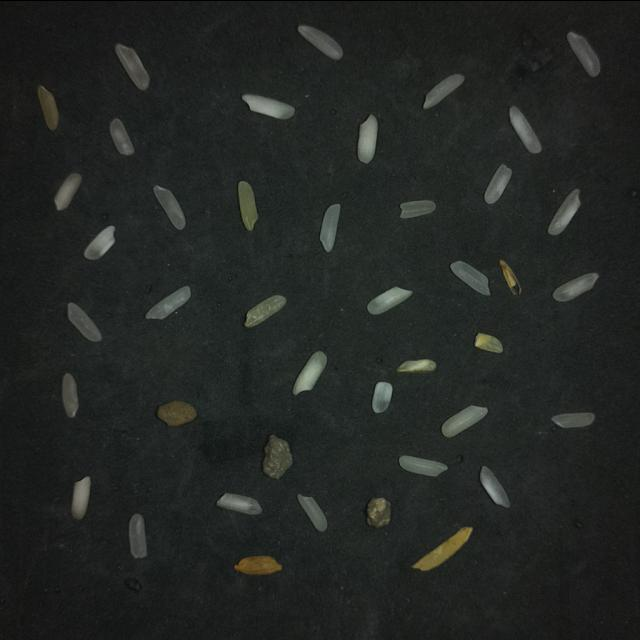broken: (450, 261, 489, 295), (483, 165, 511, 204), (296, 495, 326, 531), (53, 173, 81, 210), (216, 493, 261, 514), (109, 118, 134, 155), (399, 200, 435, 219)
chalky: (292, 351, 326, 395), (241, 94, 294, 119), (366, 287, 411, 314), (83, 226, 114, 260), (356, 115, 377, 163), (70, 476, 90, 519), (371, 382, 392, 413)
damaged: (396, 360, 435, 373)
discolored: (243, 295, 285, 327), (37, 86, 58, 130), (474, 333, 502, 353)
foreign: (262, 435, 292, 478), (156, 401, 196, 426), (366, 498, 389, 527)
paddy: (411, 527, 471, 570), (233, 556, 281, 574), (498, 260, 520, 294)
whole: (296, 25, 342, 60), (115, 43, 149, 90), (508, 106, 540, 153), (566, 32, 599, 77), (145, 286, 190, 319), (547, 189, 579, 235), (441, 406, 487, 437), (423, 75, 464, 109), (153, 186, 184, 229), (66, 303, 101, 341), (551, 273, 597, 301), (479, 466, 509, 507), (318, 205, 339, 252), (398, 456, 447, 476), (237, 181, 257, 230), (128, 513, 146, 558), (61, 373, 78, 417), (551, 412, 595, 428)
